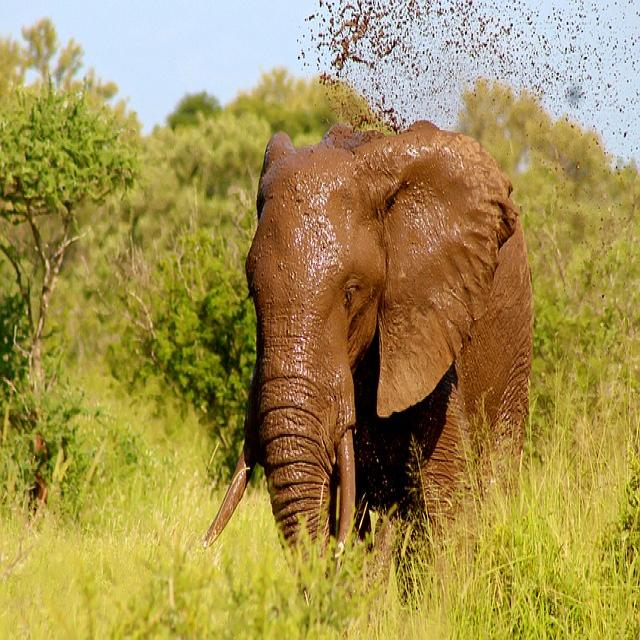elephant: (206, 122, 531, 542)
